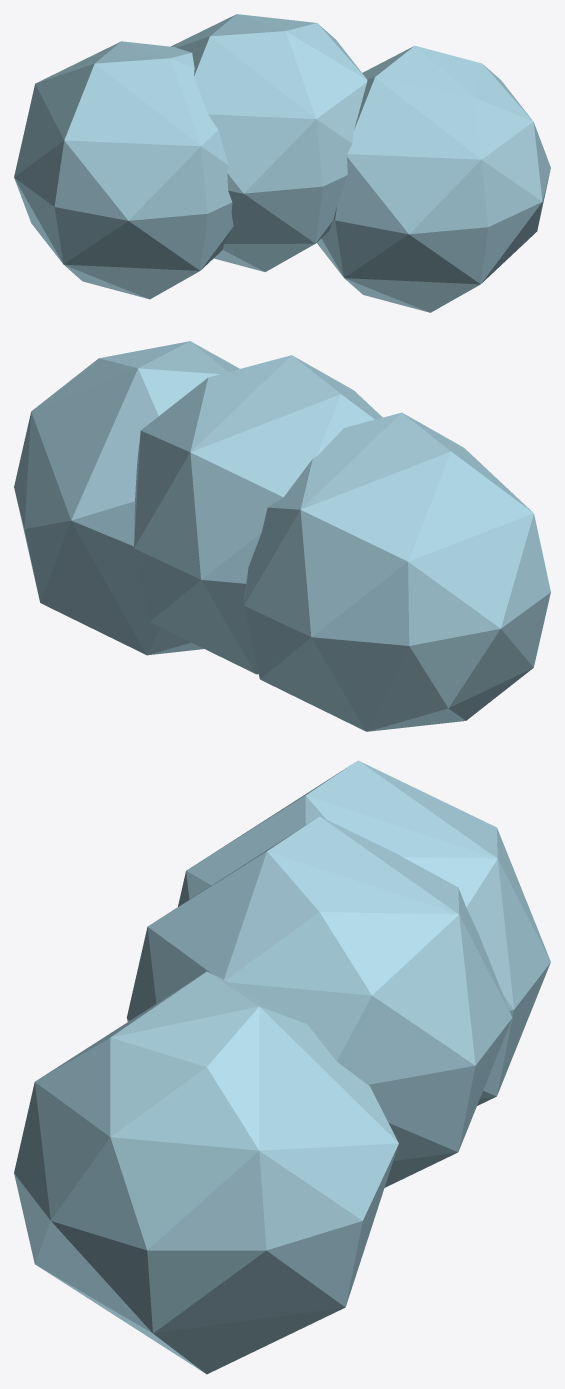
The model's file is cloud1.dae.
3 renders of one model, top to bottom at view 1: azimuth 30°, elevation 25°; view 2: azimuth 150°, elevation 25°; view 3: azimuth 270°, elevation 25°, orthographic. The views are drawn at different scales.
Visible parts, largest first — view 1: Icosphere; view 2: Icosphere; view 3: Icosphere.
Part boxes in pixels (bbox=[...]): Icosphere: bbox=[14, 14, 550, 312]; Icosphere: bbox=[14, 341, 550, 731]; Icosphere: bbox=[14, 760, 550, 1374].
Bounding box in the file's own units: 3.92 × 2.78 × 2.36.
